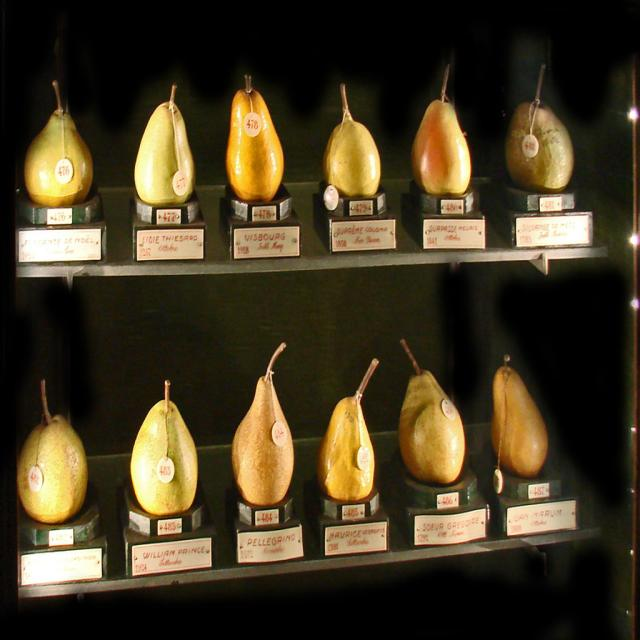pear: (15, 381, 86, 523), (233, 343, 294, 504), (400, 342, 462, 489), (315, 357, 379, 498), (130, 380, 197, 513), (504, 64, 574, 190), (23, 82, 94, 206), (409, 65, 472, 197), (225, 76, 286, 200), (133, 85, 194, 207), (324, 85, 381, 199), (492, 357, 548, 473)
